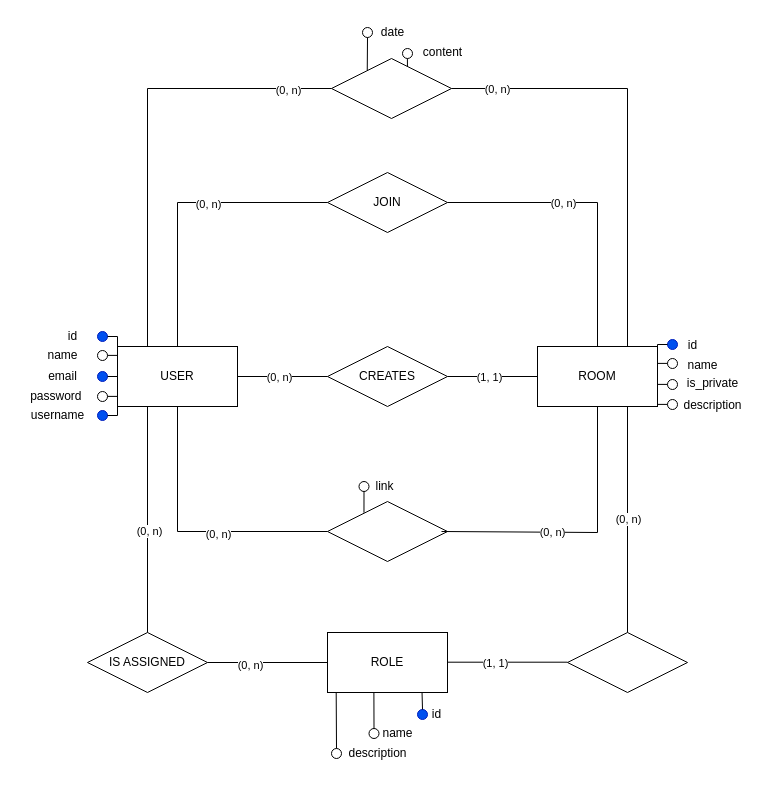
This 769x785 diagram has some shape labels left out. Each missing label, with the box of its shape:
CONTAINS: (566, 632, 688, 692)
IS INVITED: (326, 500, 448, 562)
MESSAGE: (330, 58, 452, 118)
